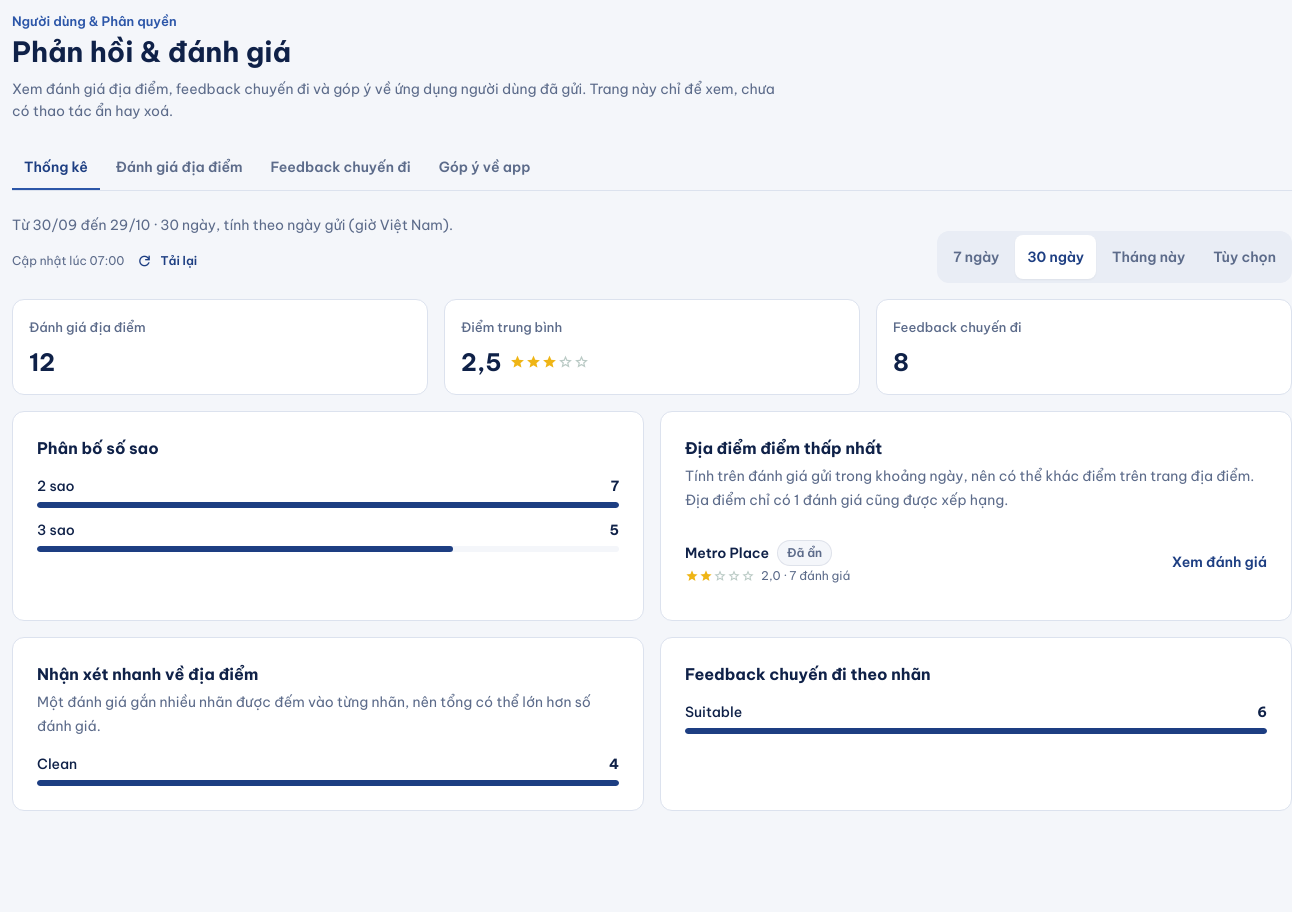
Test: A6 Feedback read-only and exact server data › master-data failure retains raw codes in both kinds
Expected: the text "Metro Place" is shown, [685,543,769,563]
Expected: the text "Clean" is shown, [37,754,77,774]
Click the tab "Đánh giá địa điểm": click(179, 168) [104,146,255,190]
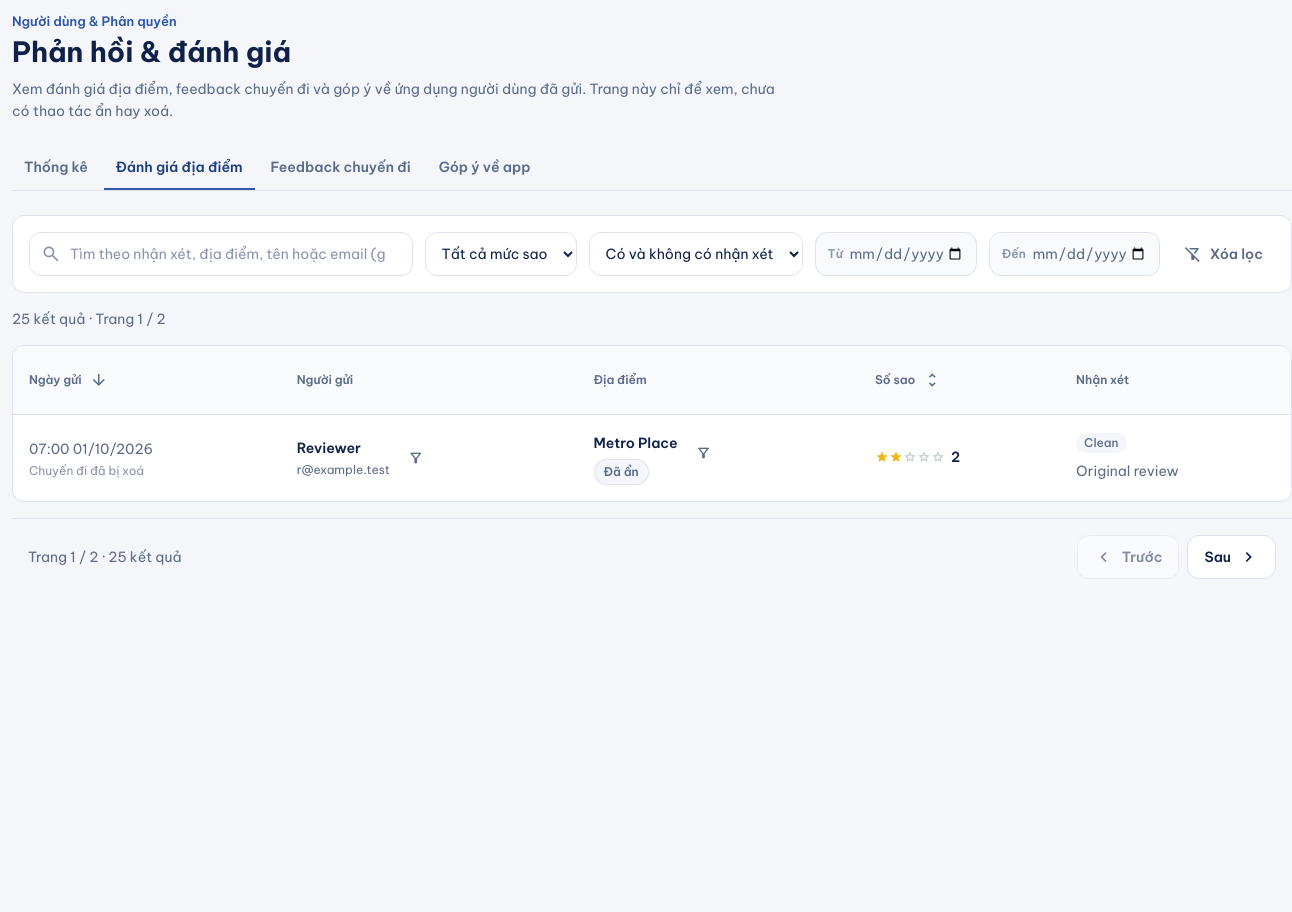
Expected: the text "Clean" is shown, [1076,433,1127,453]
Click the tab "Feedback chuyến đi": click(341, 168) [259,146,423,190]
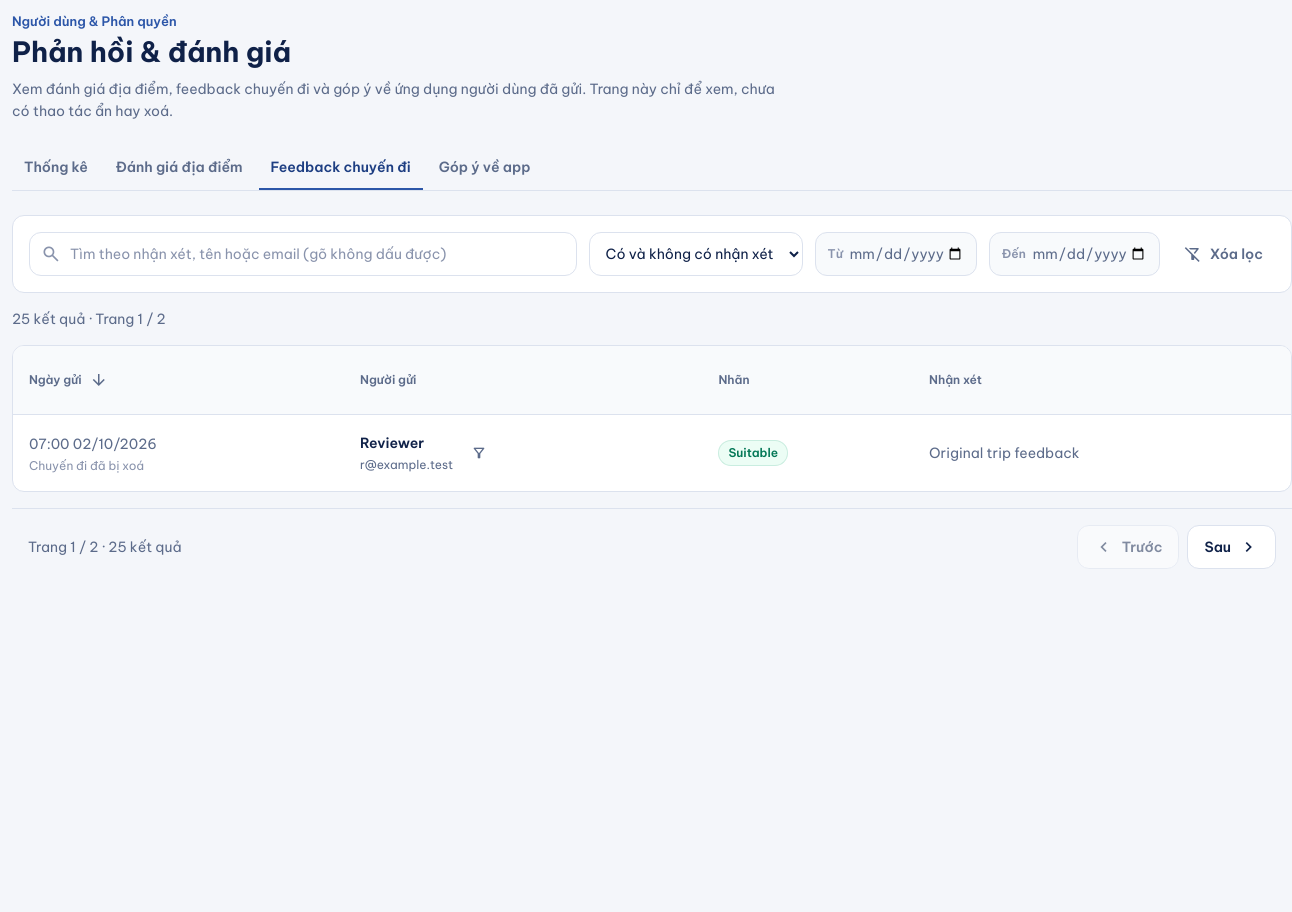
Now the text "Suitable" is shown, box [718,440,788,466]
